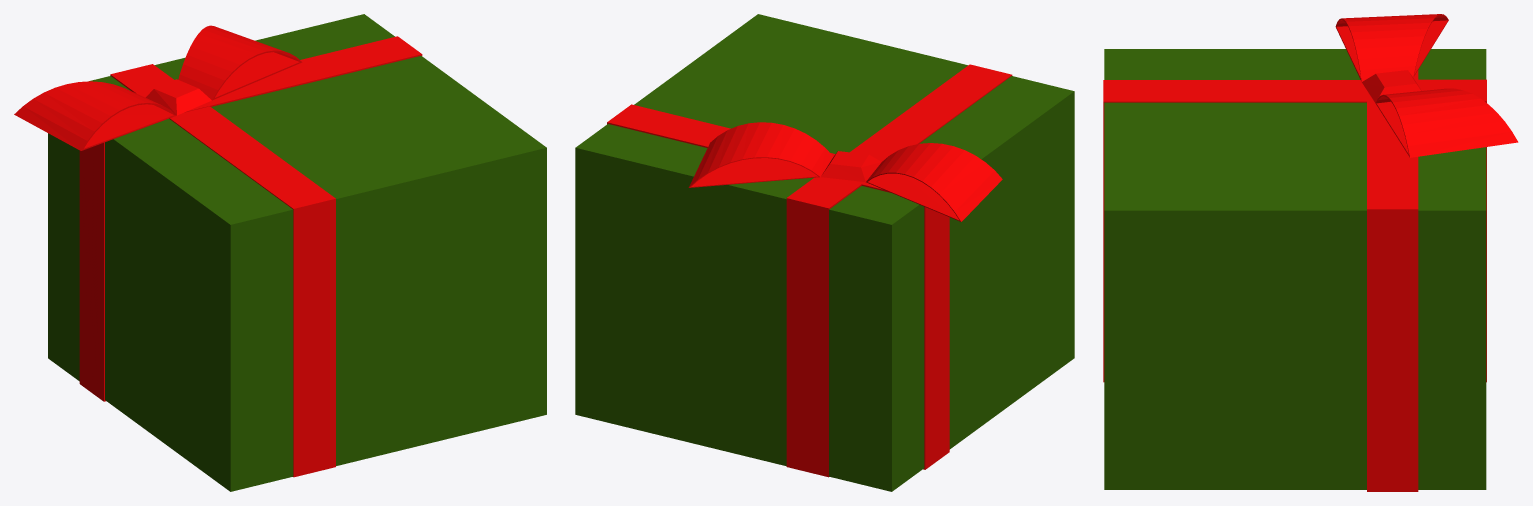
File: Prop_Christmas_Present_Green_02.FBX
3 views of the same model, side by side, from view 1: azimuth 30°, elevation 25°; view 2: azimuth 150°, elevation 25°; view 3: azimuth 270°, elevation 25° (orthographic). The views are drawn at different scales.
Parts seen in each view (by area): view 1: Prop_Christmas_Present_Green_02; view 2: Prop_Christmas_Present_Green_02; view 3: Prop_Christmas_Present_Green_02.
Boxes of the visible parts, x1,y1,x2,y2 form: Prop_Christmas_Present_Green_02: (14, 14, 546, 491); Prop_Christmas_Present_Green_02: (575, 14, 1074, 491); Prop_Christmas_Present_Green_02: (1103, 14, 1518, 491).
Size of the model in its own units: 387 by 298 by 360.
